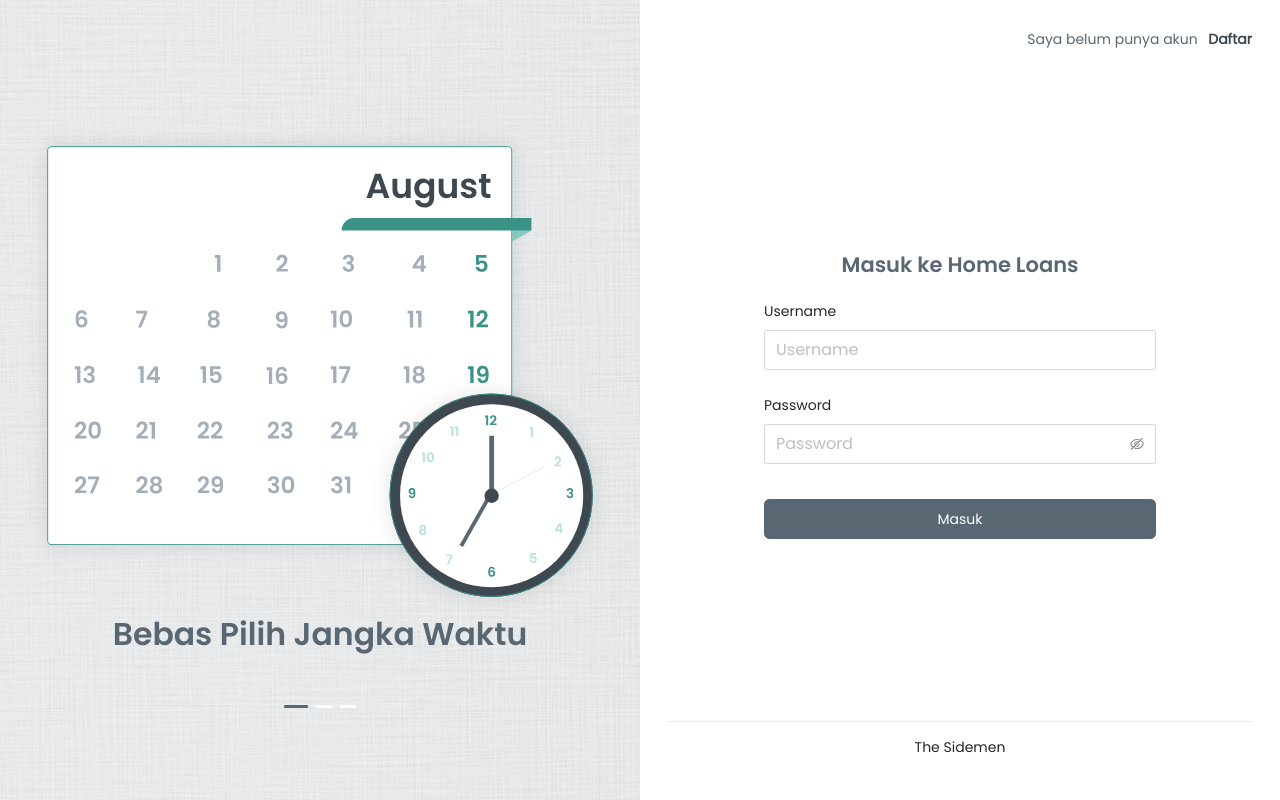
Test case: Page Login › Test Login › Empty Username & Password
This screenshot has width=1280, height=800.
Expected: the form is shown, top-left (764, 300), bottom-right (1156, 540)
Expected: the field named "username" is shown, top-left (764, 330), bottom-right (1156, 370)
Click the submit button.
click(960, 520)  # box top-left (764, 499), bottom-right (1156, 540)
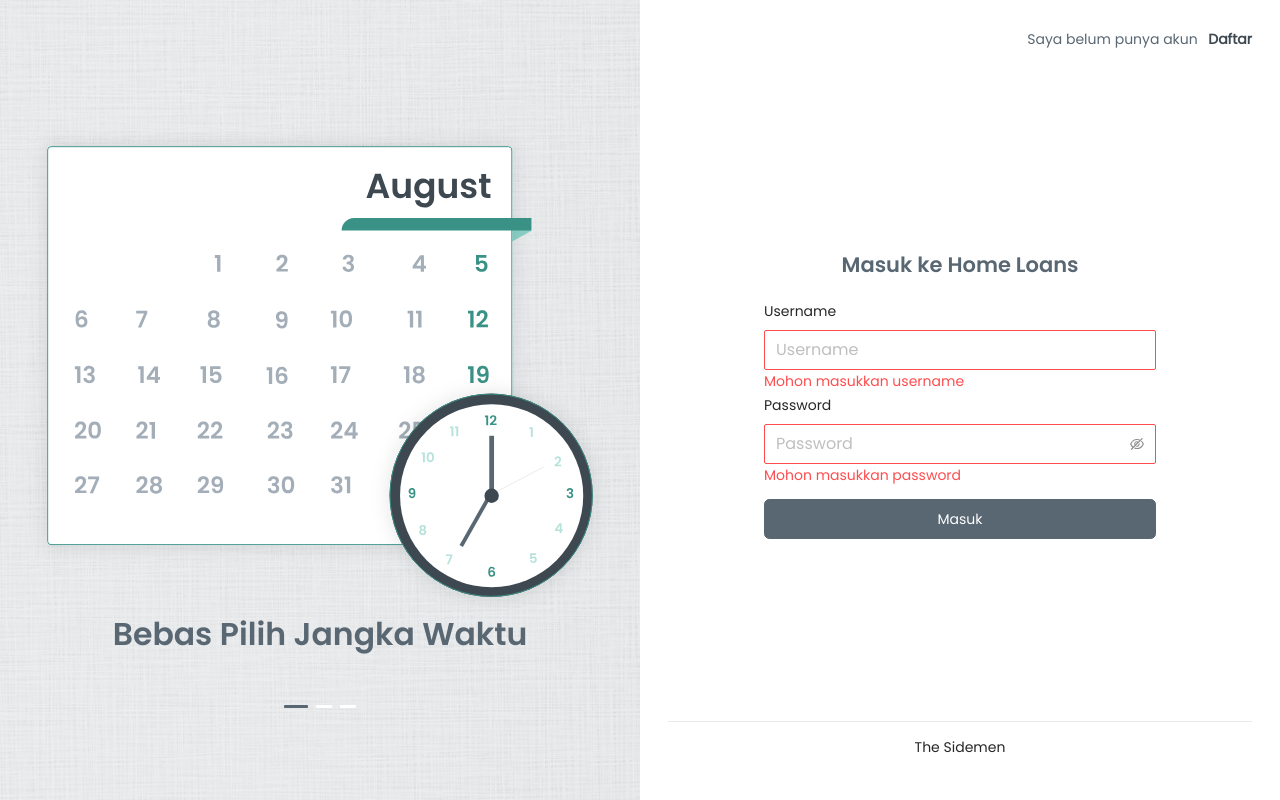
Now the text "Mohon masukkan username" is shown, box top-left (764, 371), bottom-right (964, 391)
